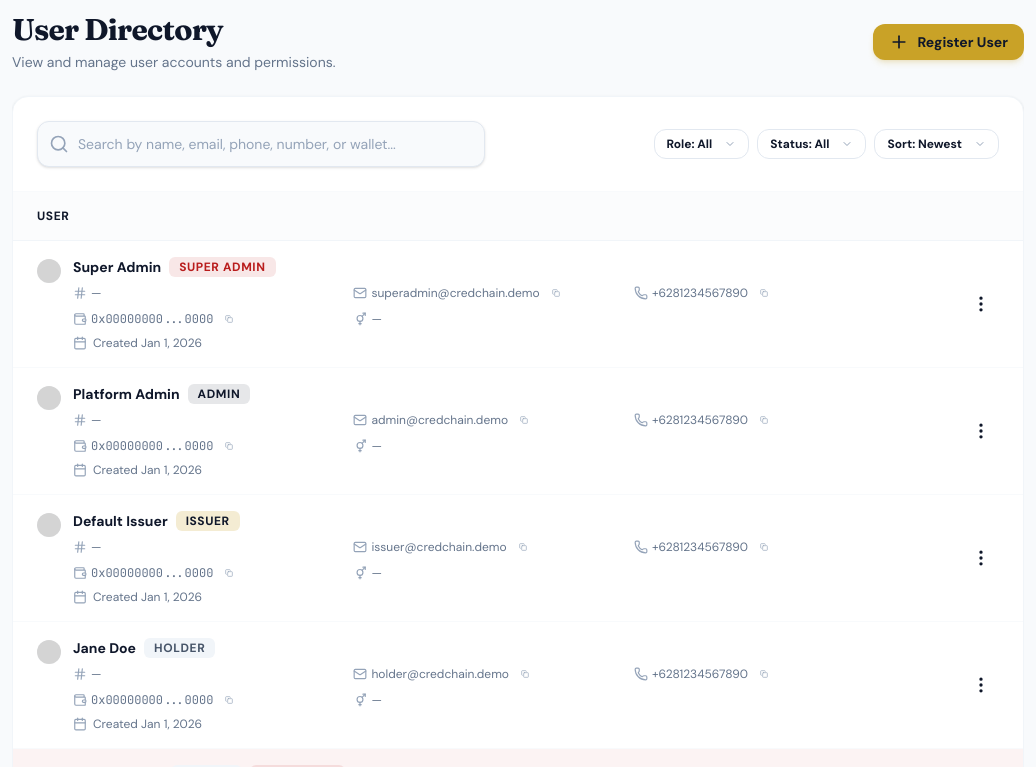
Scenario: UserList › shows transfer super admin option when auth is super admin and target qualifies
Expected: the link "Default Issuer" is shown, [73,511,168,531]
What coordinates should you click on to do the following:
click the button named "actions" in the row of "issuer@credchain.demo"
I would click on:
 (981, 558)
Its box is [963,540,999,576].
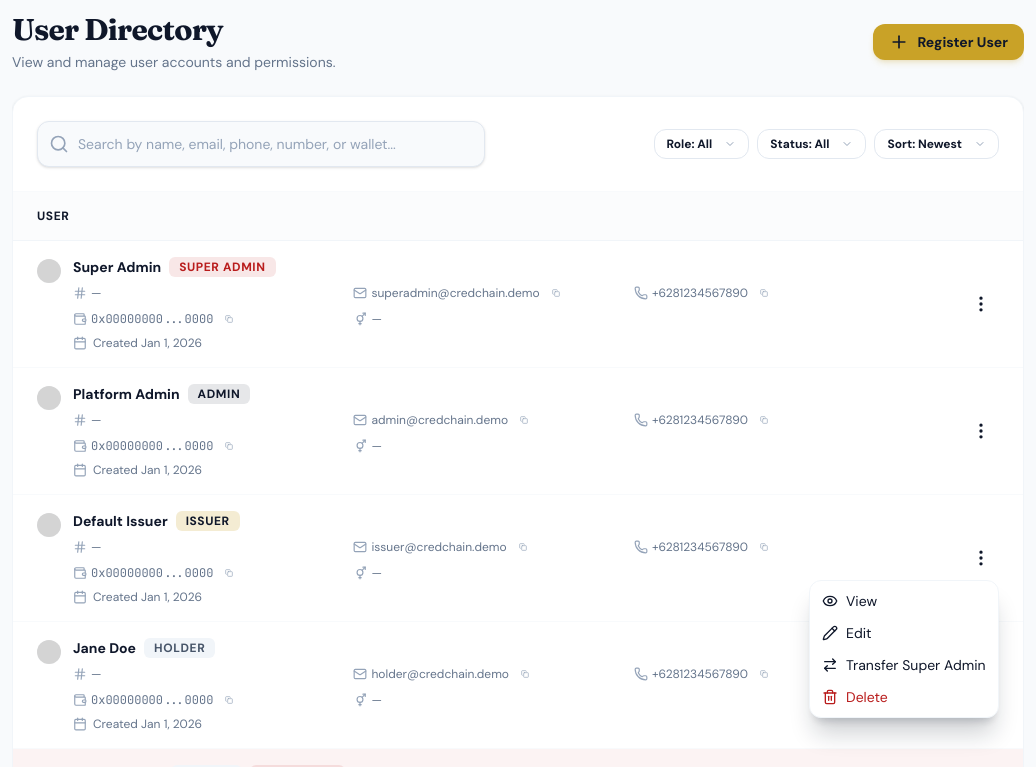
Result: the menu item "Transfer Super Admin" is shown at [822,656,986,674]
